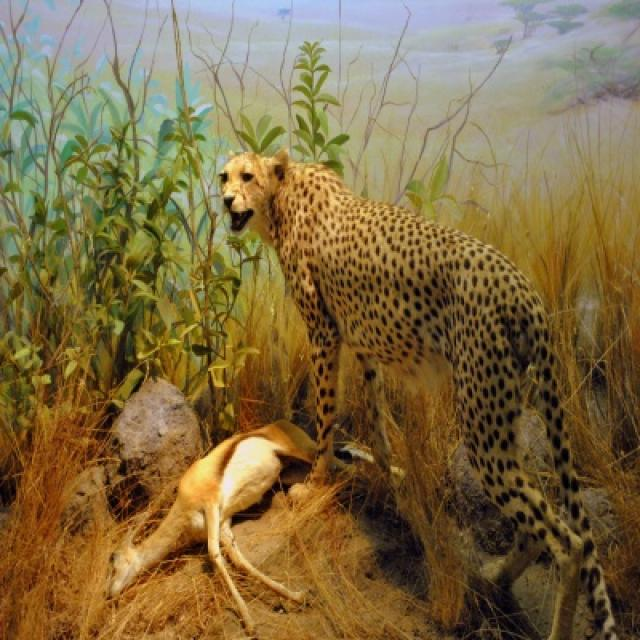Cheetah: (219, 150, 618, 638)
